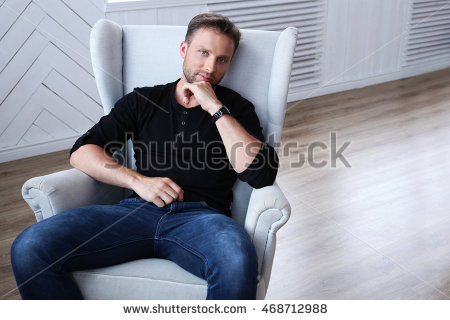chairs: (23, 21, 300, 301)
